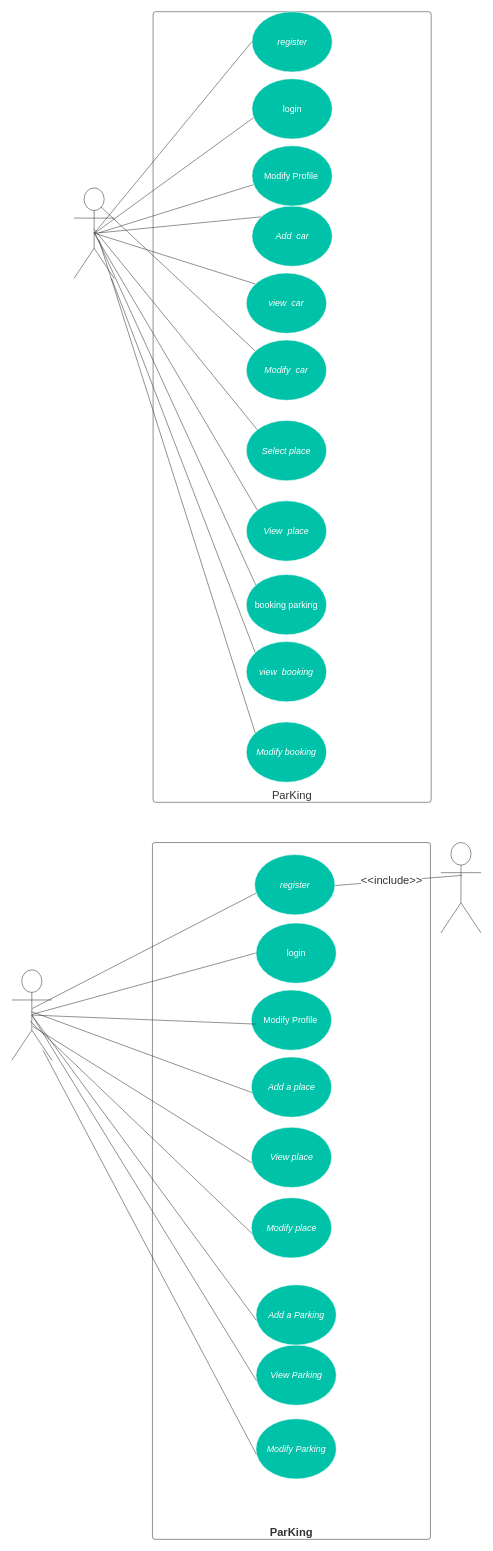
Some shapes in this 493 by 1551 pixel diagram are drawn without their labels. The centre of each missing label's shape, as x and y in pixels:
"Admin" belongs at [460,887].
"Company" belongs at [31,1014].
"Customer" belongs at [93,232].
